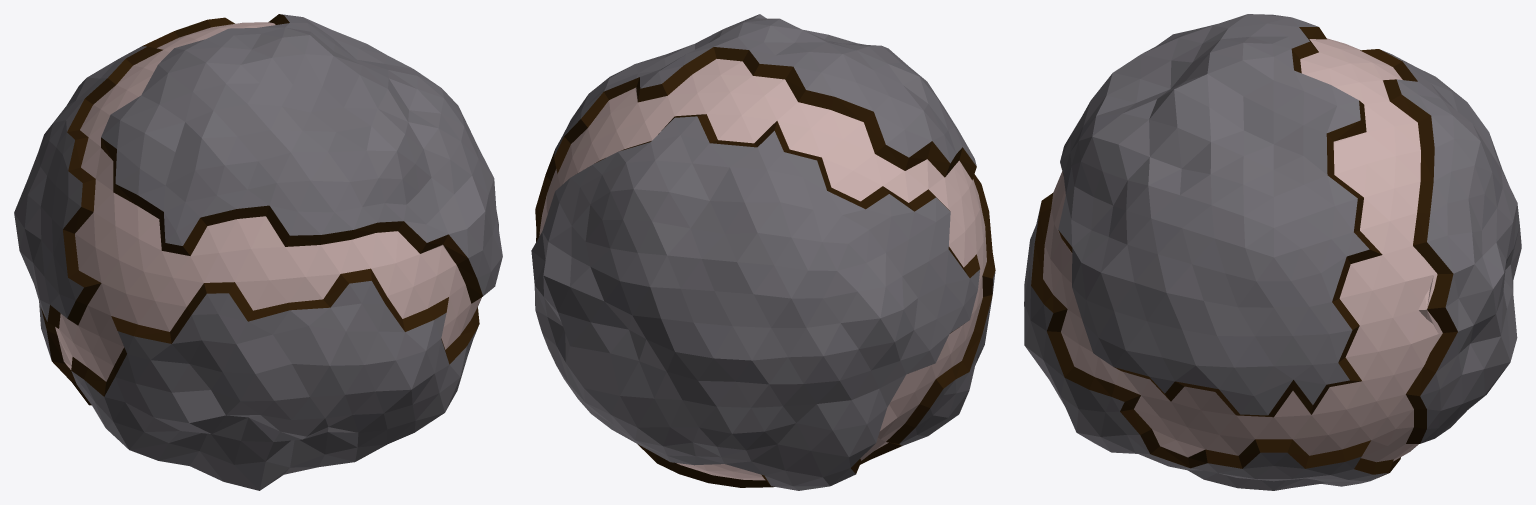
The model's file is SJ-planeta1.dae.
The picture shows the model from 3 angles, left to right: view 1: azimuth 30°, elevation 25°; view 2: azimuth 150°, elevation 25°; view 3: azimuth 270°, elevation 25°; orthographic projection. The views are drawn at different scales.
Visible parts, largest first — view 1: Icosphere; view 2: Icosphere; view 3: Icosphere.
Part boxes in pixels (box(x1,y1,x2,y2)): Icosphere: box(14, 14, 502, 490); Icosphere: box(531, 14, 995, 490); Icosphere: box(1024, 14, 1521, 490).
Bounding box in the file's own units: 1.23 × 1.26 × 1.23.
